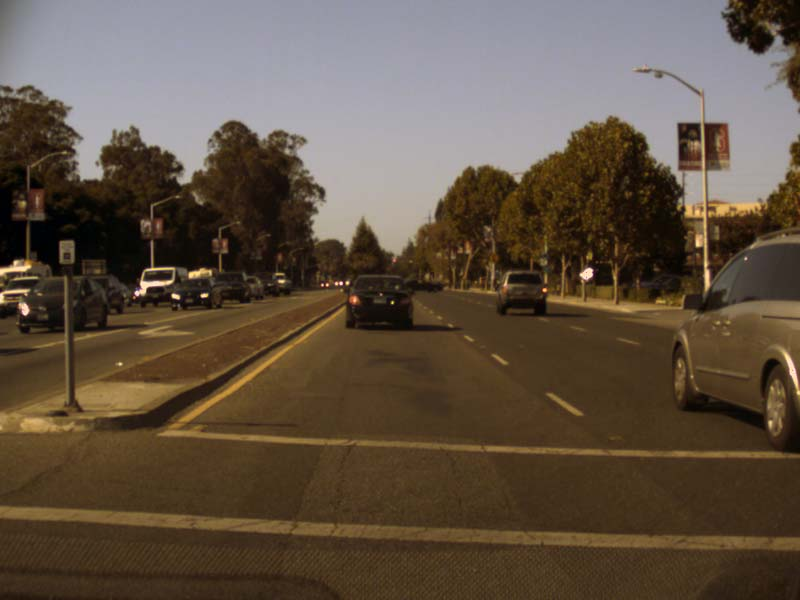Red: (392, 258, 396, 262)
Yellow: (408, 259, 413, 263)
